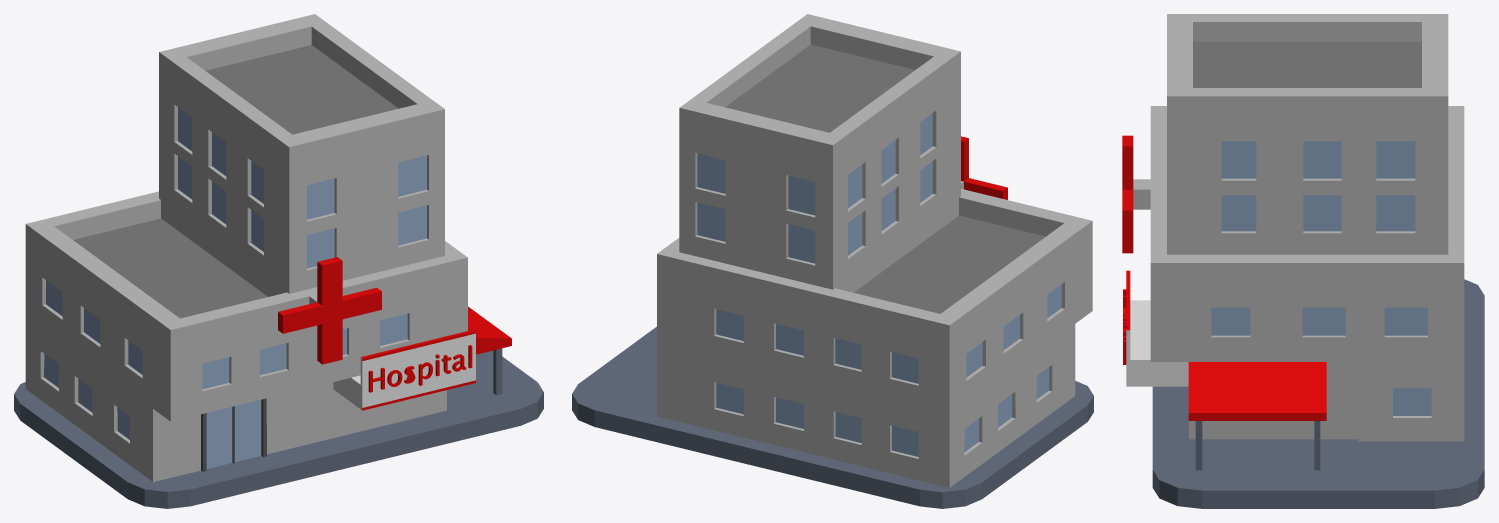
Rendered from Hospital.fbx.
3 views of the same model, side by side, from view 1: azimuth 30°, elevation 25°; view 2: azimuth 150°, elevation 25°; view 3: azimuth 270°, elevation 25° (orthographic). The views are drawn at different scales.
Visible parts, largest first — view 1: Hospital; view 2: Hospital; view 3: Hospital.
Boxes of the visible parts, bbox=[...] form: Hospital: bbox=[14, 14, 543, 508]; Hospital: bbox=[572, 14, 1093, 508]; Hospital: bbox=[1122, 14, 1484, 508].
Bounding box in the file's own units: 23.4 × 17.93 × 16.56.
